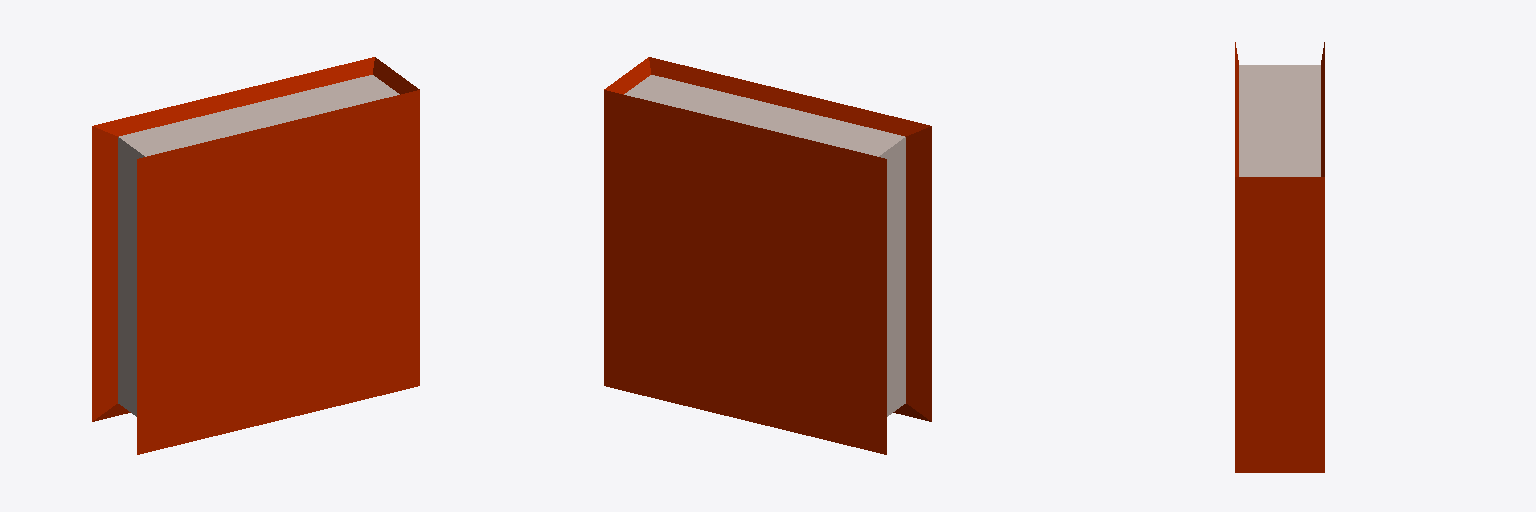
The model's file is Book_005.obj.
The picture shows the model from 3 angles: view 1: azimuth 30°, elevation 25°; view 2: azimuth 150°, elevation 25°; view 3: azimuth 270°, elevation 25°; orthographic projection.
Visible parts, largest first — view 1: Book_5_Cube.009; view 2: Book_5_Cube.009; view 3: Book_5_Cube.009.
Part boxes in pixels (left/top/right/bottom): Book_5_Cube.009: left=92, top=57, right=419, bottom=454; Book_5_Cube.009: left=604, top=57, right=931, bottom=454; Book_5_Cube.009: left=1235, top=42, right=1324, bottom=472.
Size of the model in its own units: 2 by 2 by 0.5511.